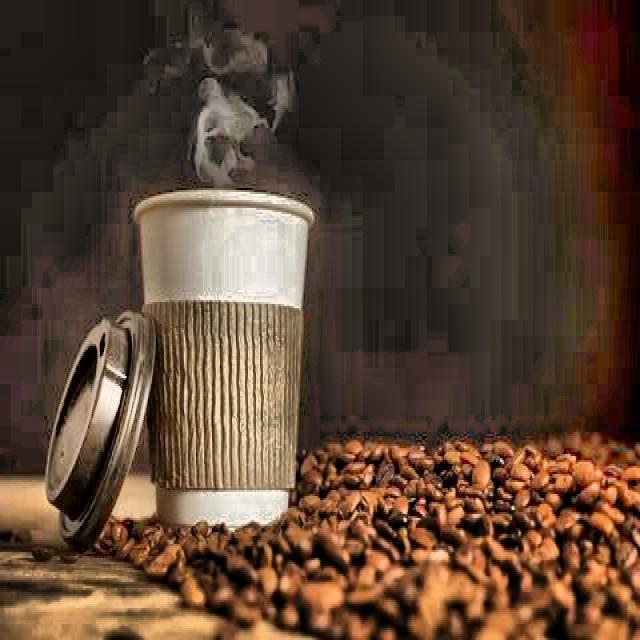Cup: (130, 183, 325, 532)
